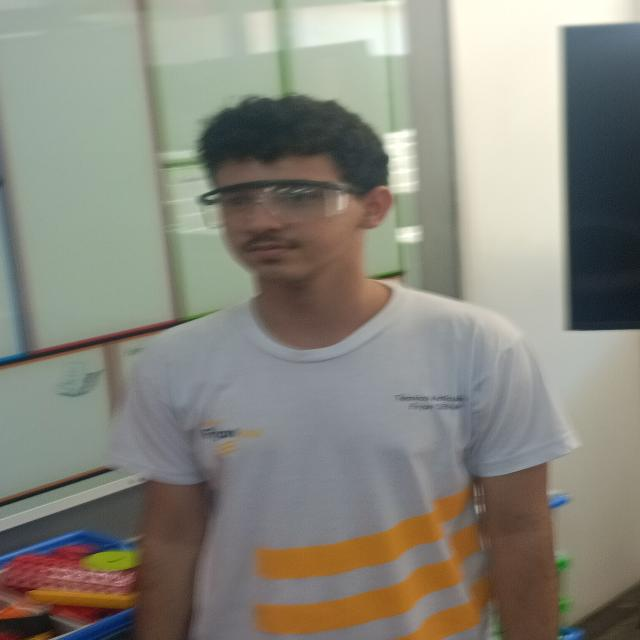oculos-epi: (197, 179, 363, 230)
